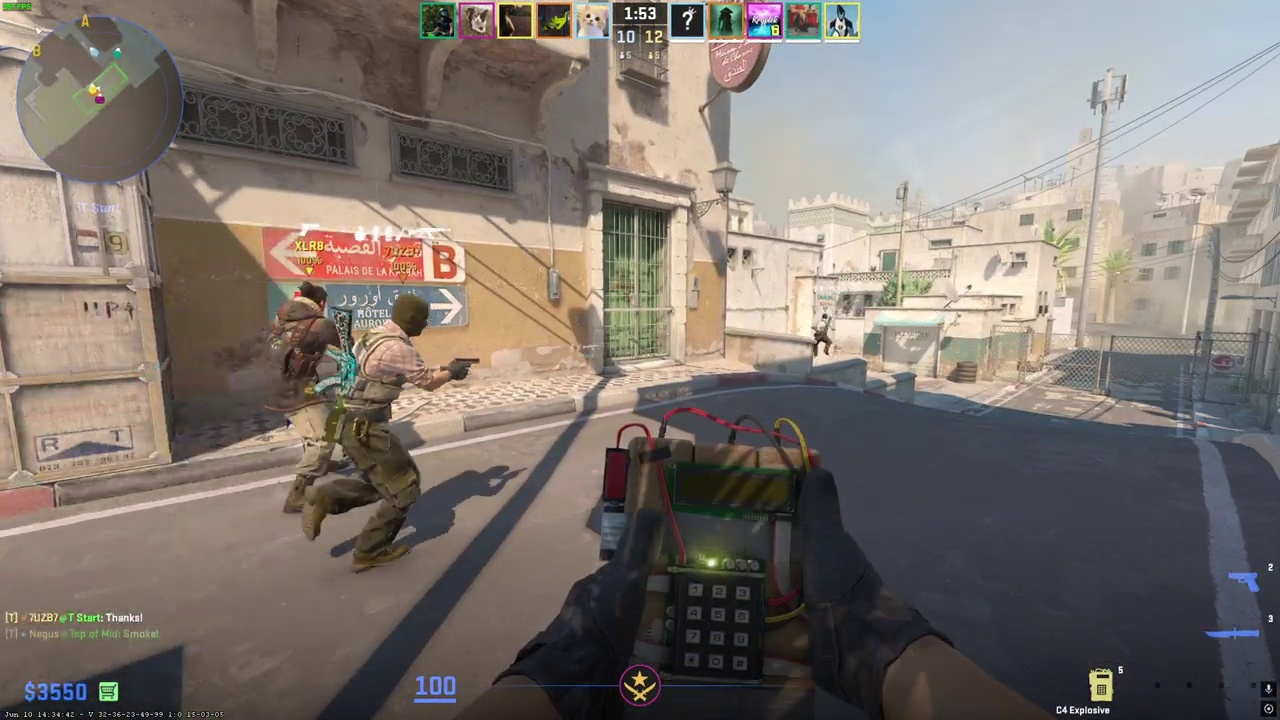Terrorist: (327, 293, 441, 570), (265, 281, 353, 514), (813, 313, 833, 356)
